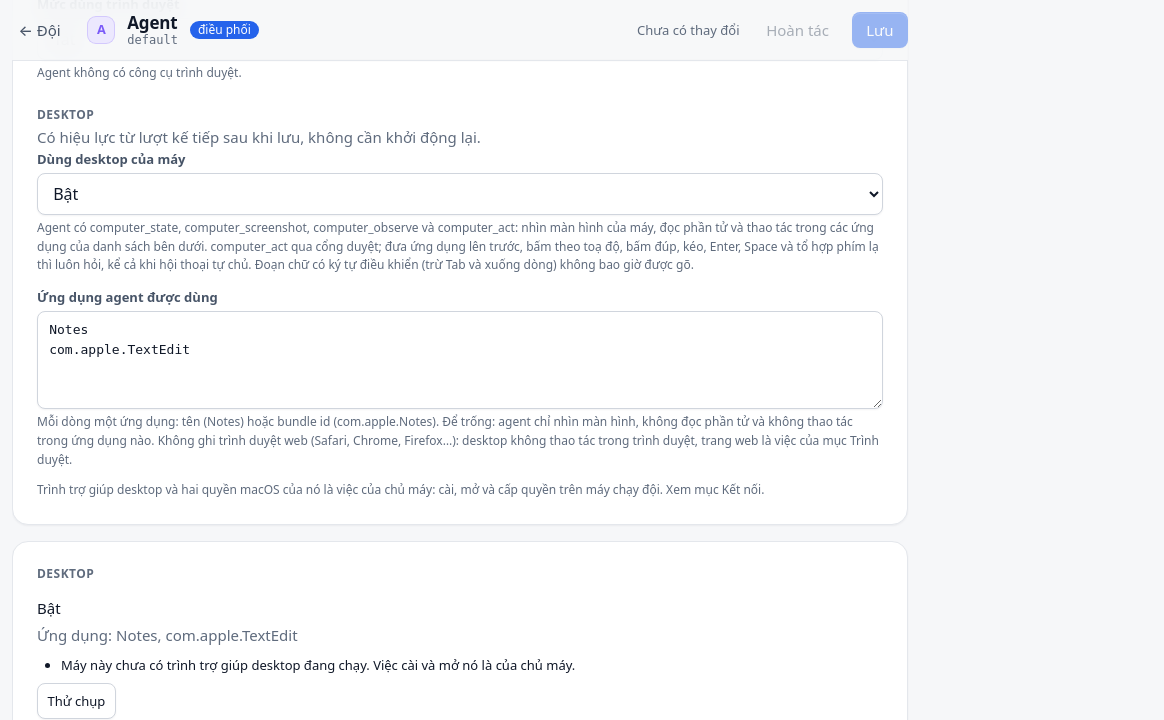
Scenario: the applications an agent may act in › are sent as an empty list once the box is emptied
The image size is (1164, 720).
(page scrolled)
Step 1. Clear the text box labelled "Ứng dụng agent được dùng" → (460, 360), box [37,311,883,409]
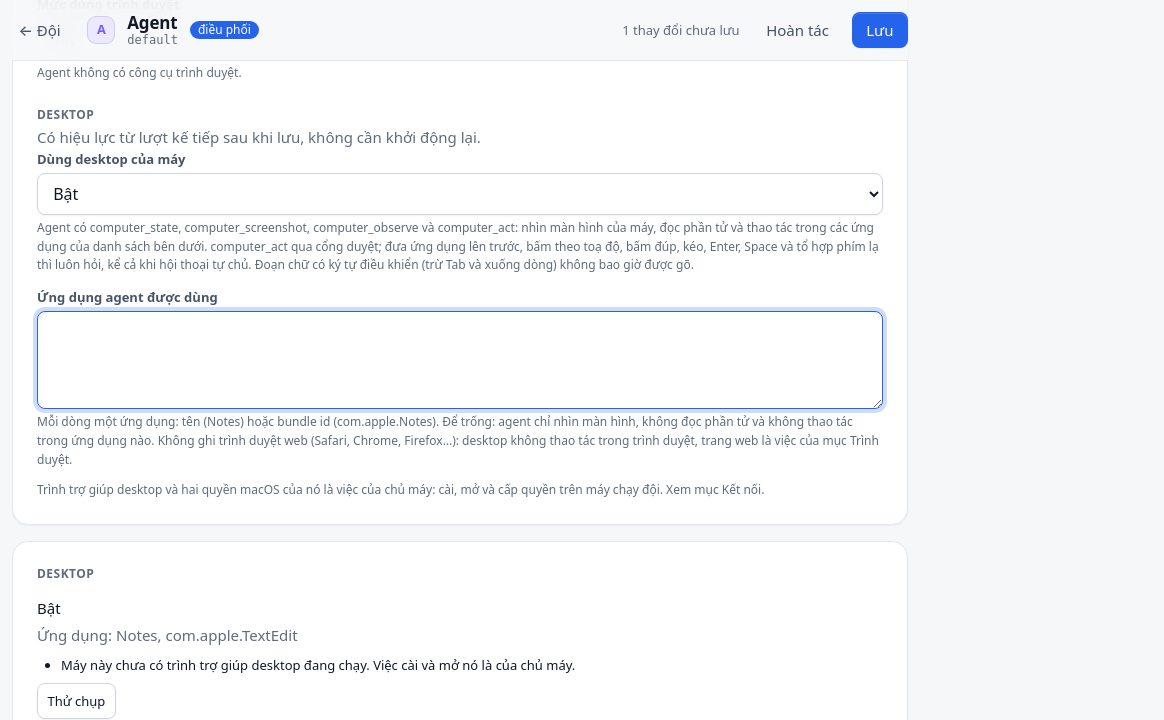
Step 2. Click the button "Lưu" → (880, 30), box [852,12,908,48]
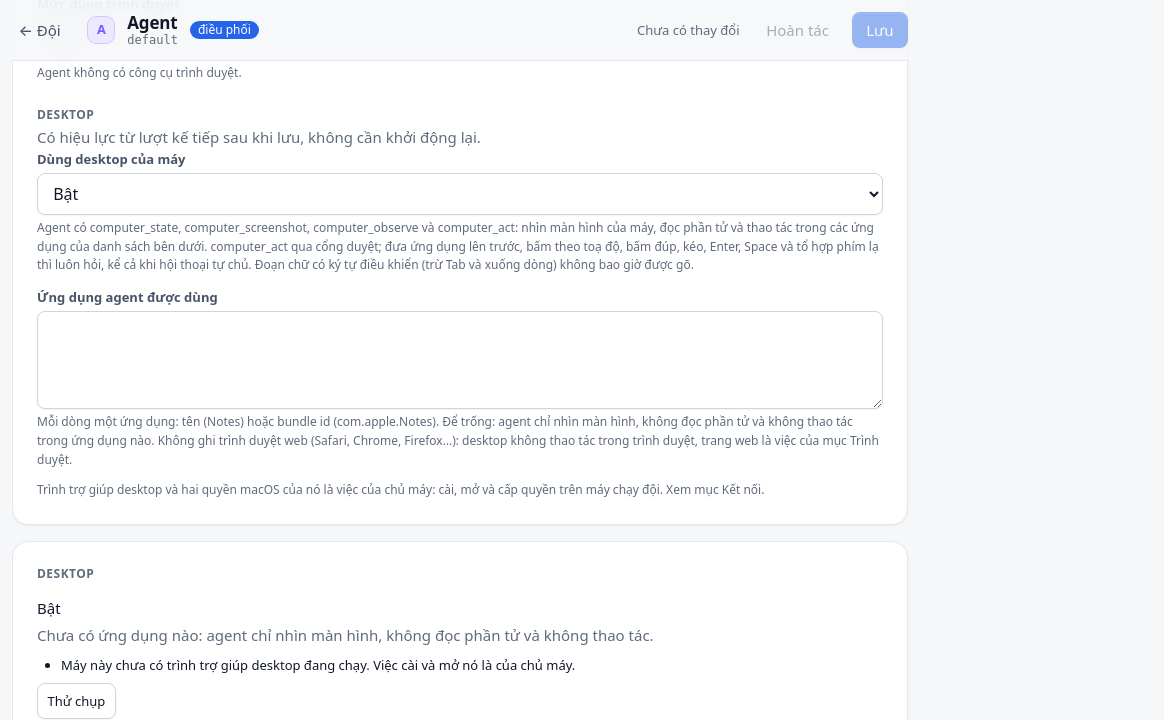
Check: the text "Chưa có thay đổi" is shown, box [637,20,740,40]
